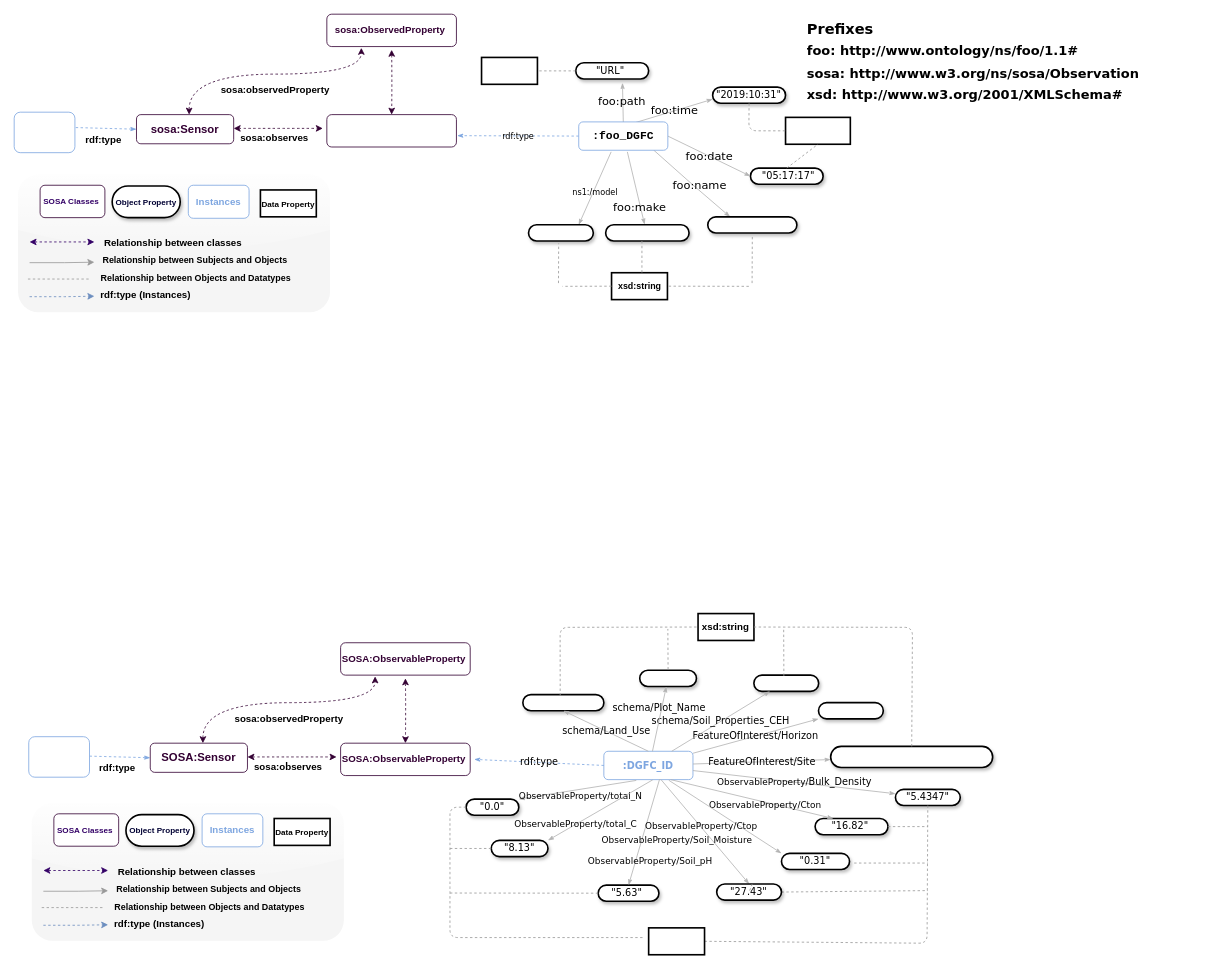
Image size: 1209x970. Some labels were removed from this diagram. Here are the shapes that lost their labels. From the top down, the centre of each, then its label:
the point at 509,70: xsd: anyURI
the point at 44,132: Trail Camera
the point at 391,130: SOSA:Observation
the point at 817,130: xsd:datetime
the point at 561,233: "PC800"
the point at 647,233: "RECONYX"
the point at 752,225: "image10.jpg"
the point at 668,679: "DV1"
the point at 786,684: "DV1221"
the point at 563,703: "Unlogged Forest"
the point at 851,711: "Organic"
the point at 59,756: GPS collar
the point at 912,758: "Danum Valley Conservation Area"
the point at 676,941: xsd:float
